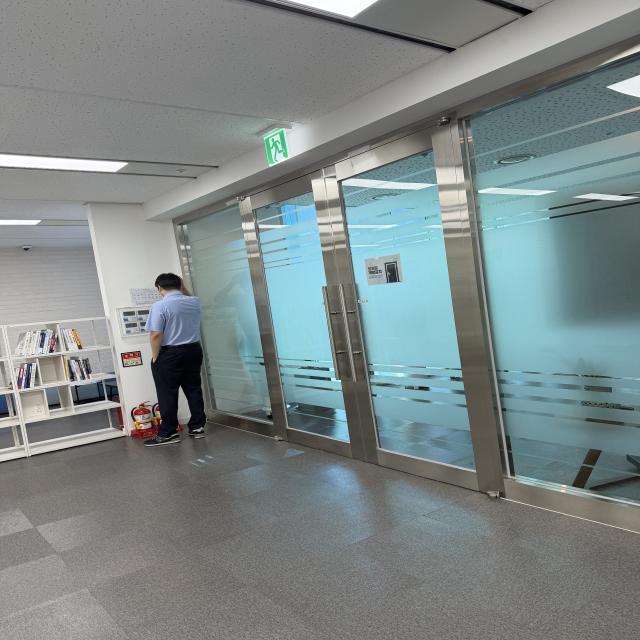front_door: (178, 52, 640, 530)
